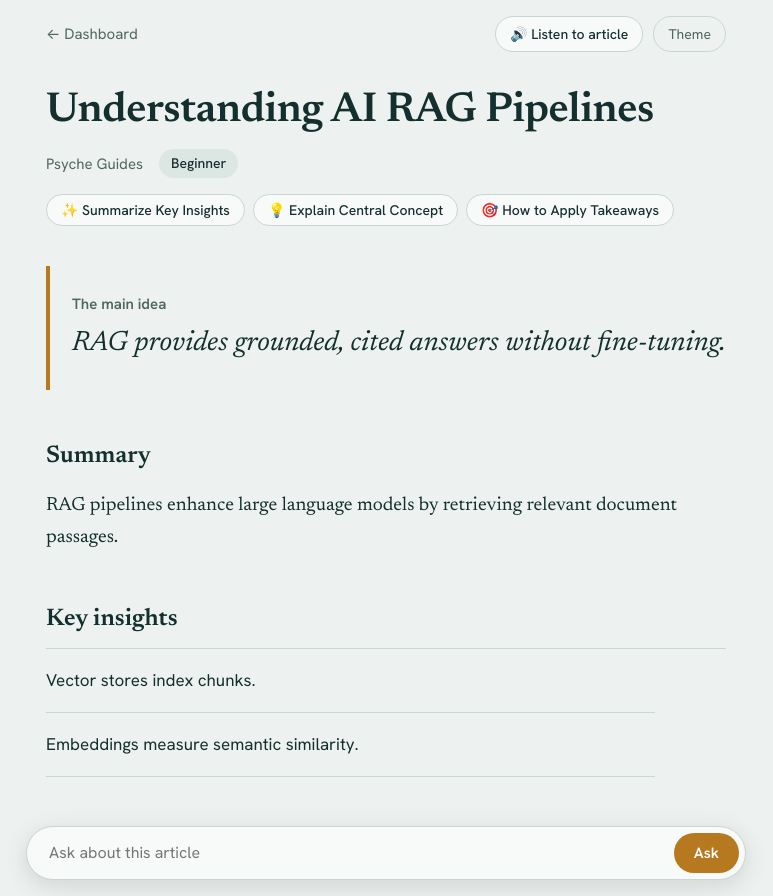
ArticleViewer Component › submits question and renders answer with source citations
Type "What is RAG?" into the field with placeholder "Ask about this article".
click(356, 853); type("What is RAG?")  # box [47,833,666,873]
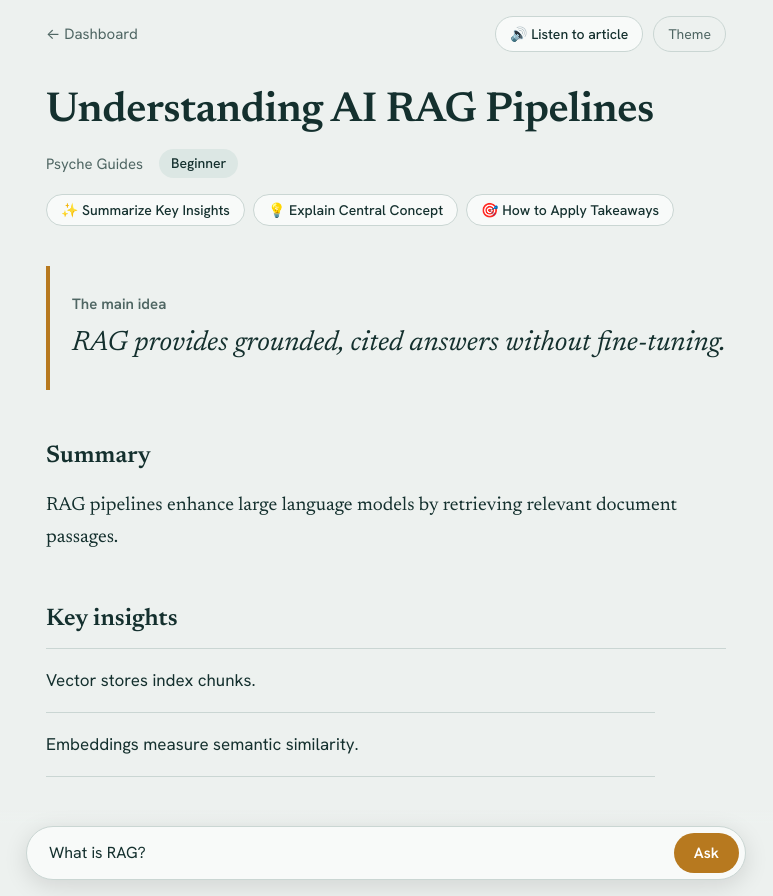
Click the button "Ask".
click(706, 853)  # box [674,833,739,873]
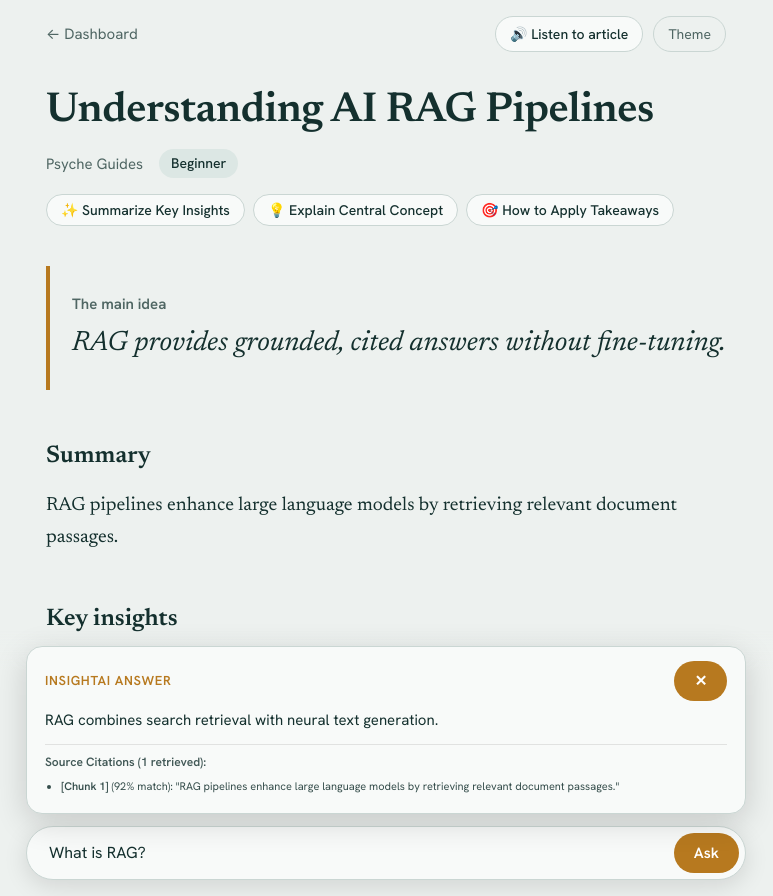
Expected: the text "RAG combines search retrieval with neural text generation." is shown, [45,710,438,730]
Expected: the heading "Source Citations (1 retrieved):" is shown, [45,754,206,770]
Expected: the text "[Chunk 1]" is shown, [61,779,109,793]
